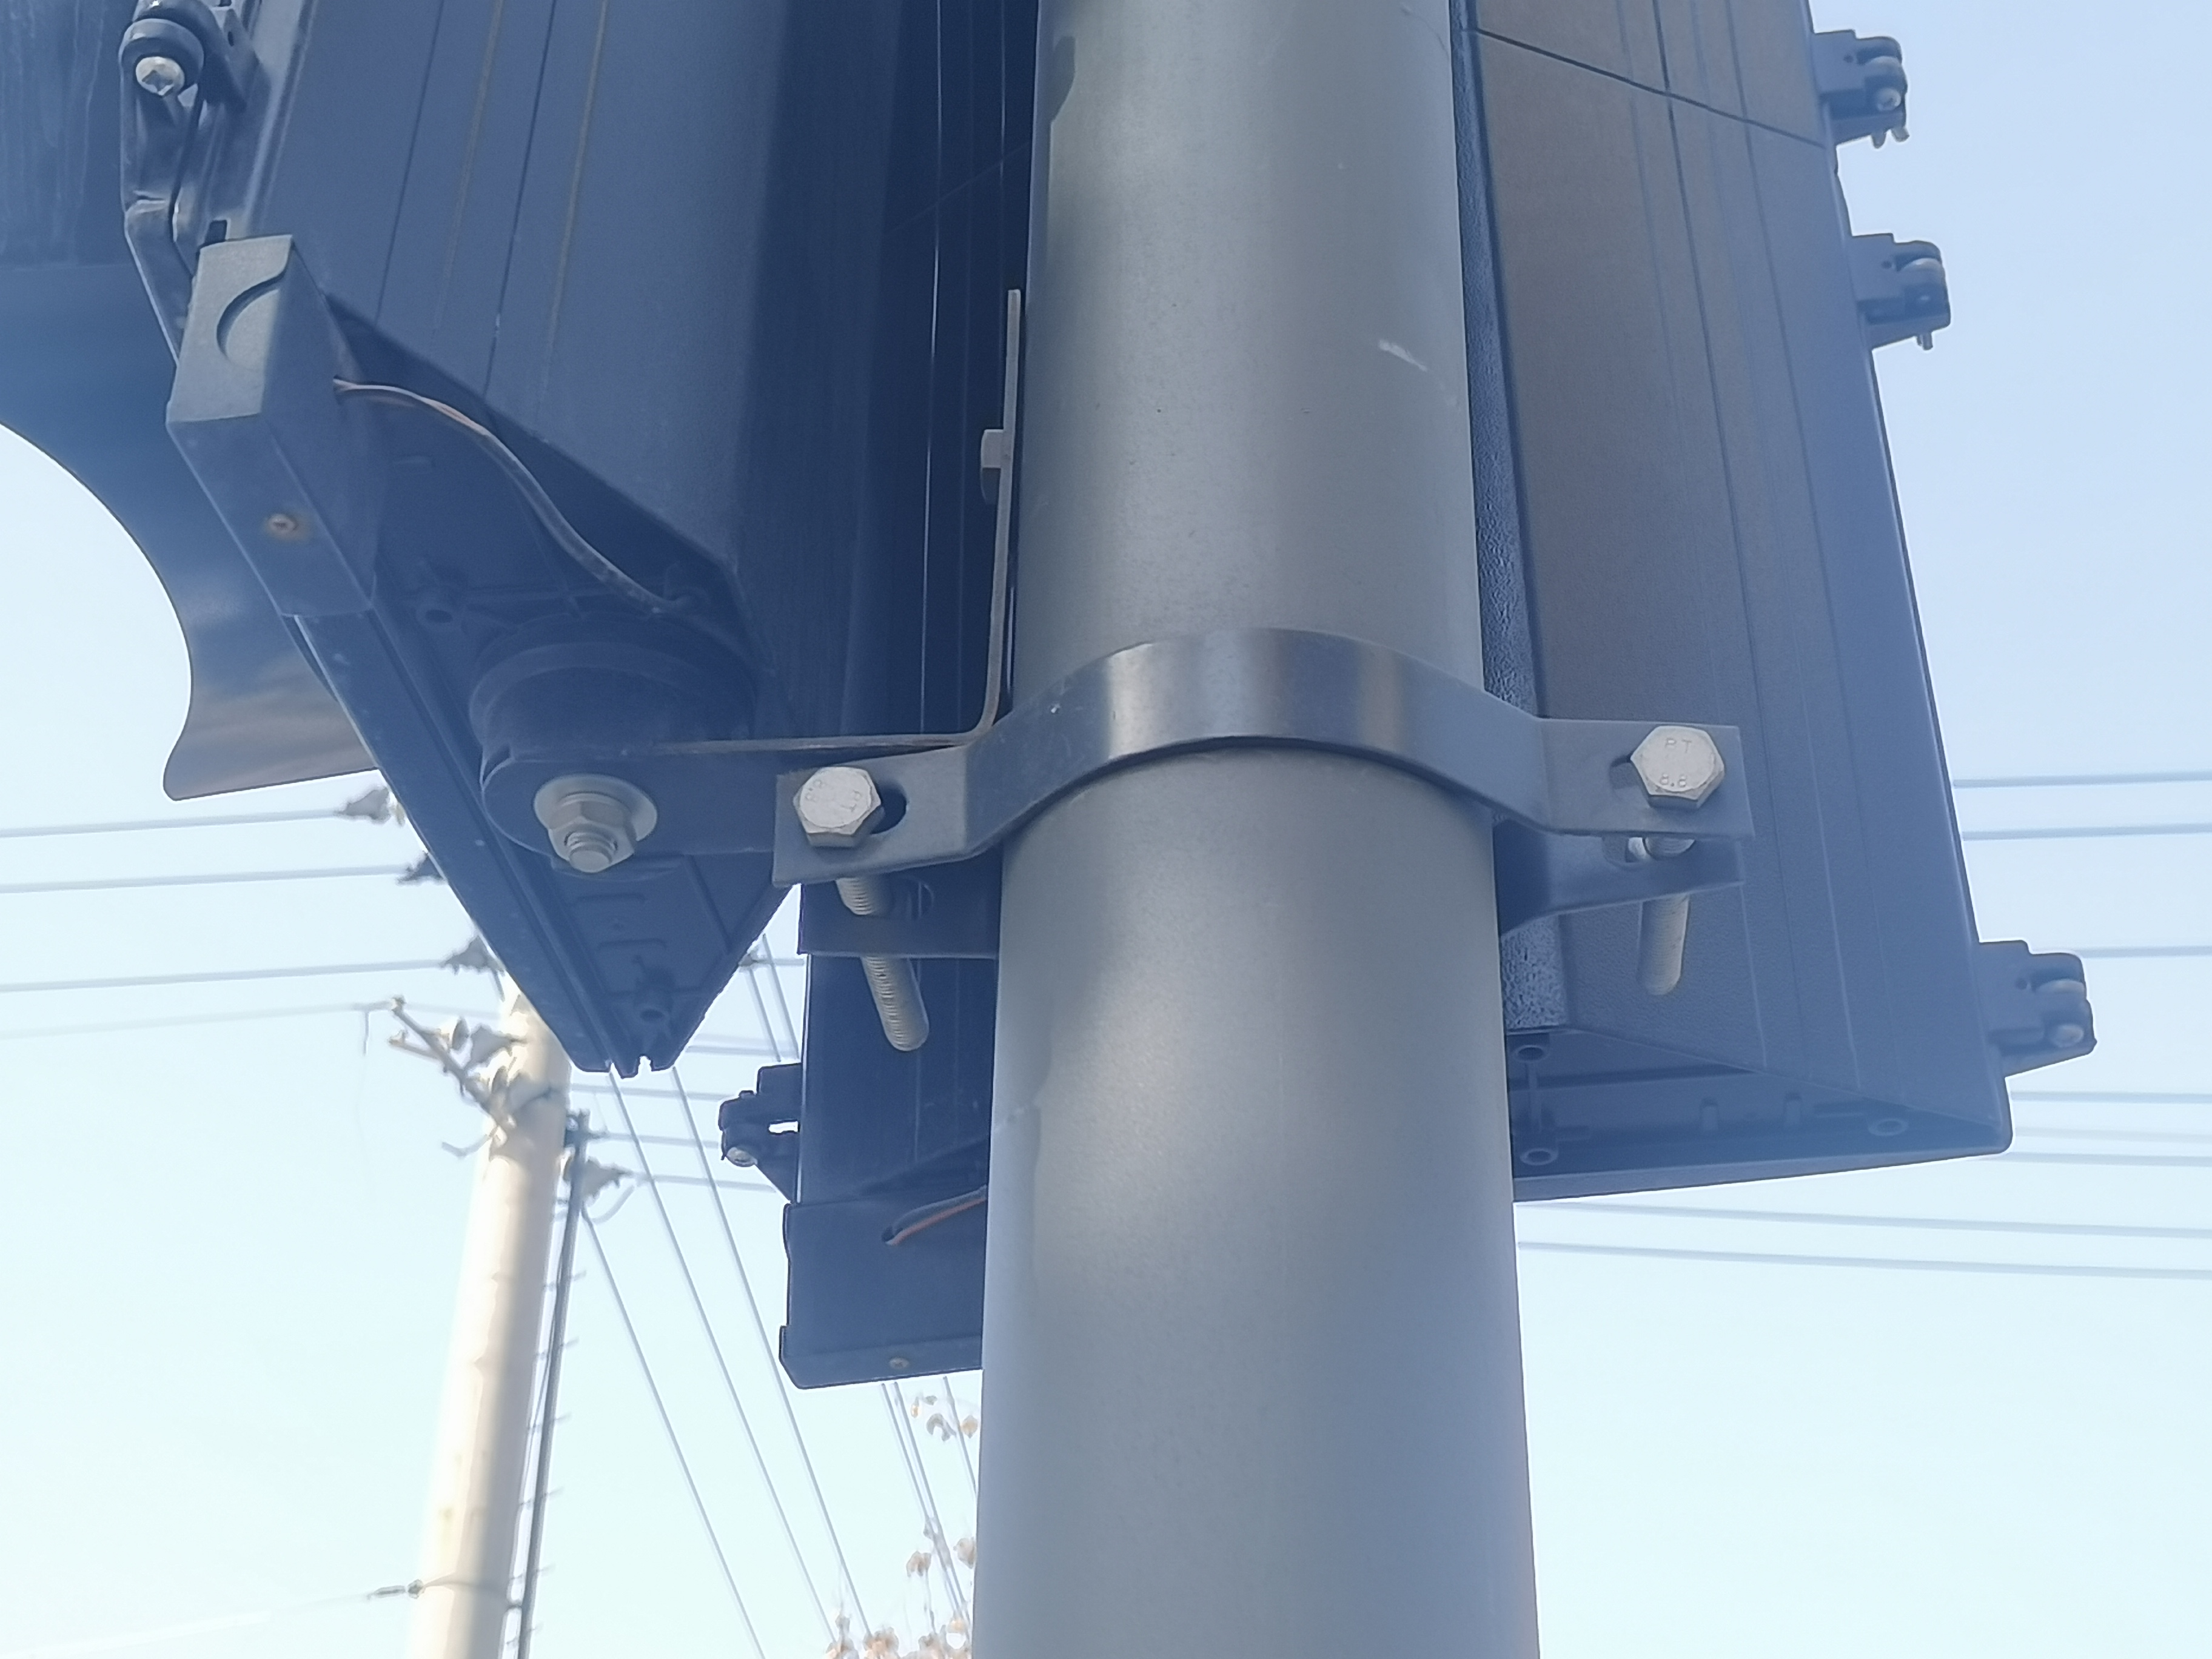bolt_a: (1627, 721, 1728, 814), (789, 763, 887, 852)
bolt_b: (545, 800, 641, 875)
